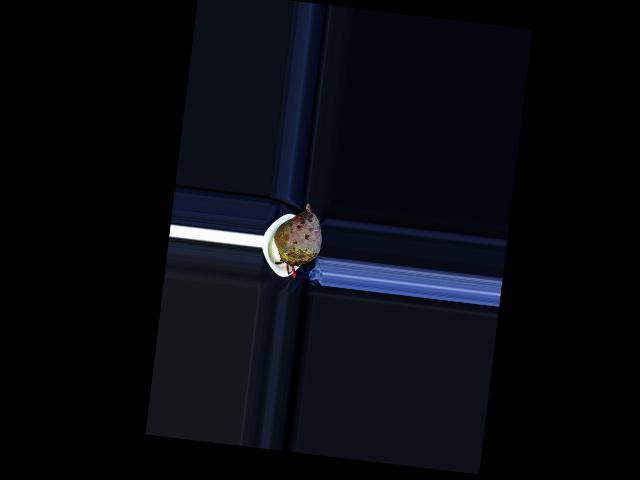beet: (269, 200, 324, 280)
